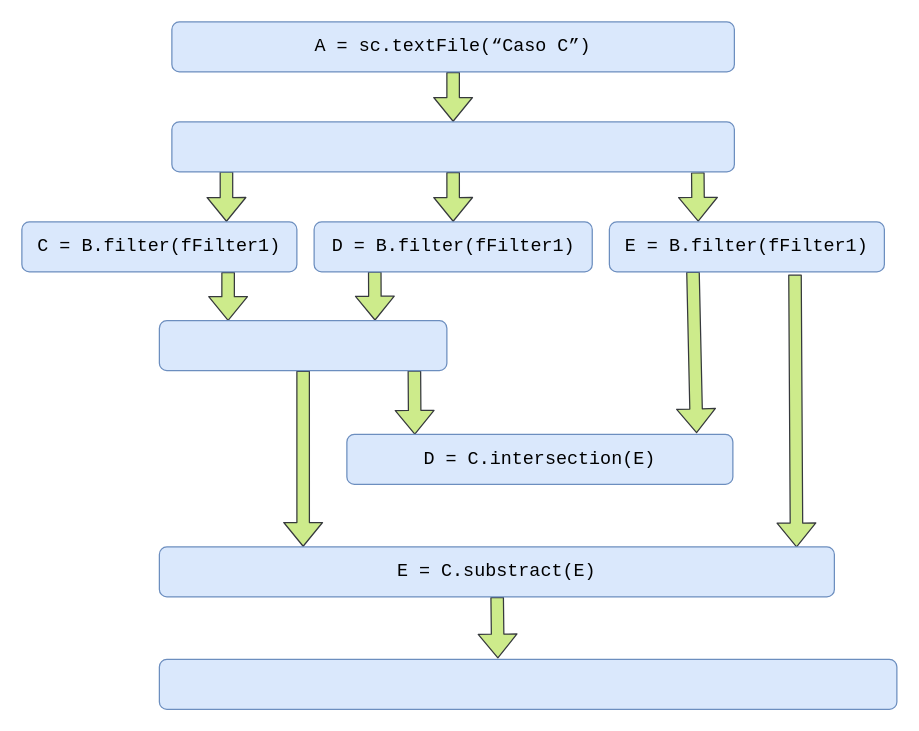
Image size: 919x731. Some labels were removed from this diagram. Here are the shapes that lost their labels. From the top down, the centre of each, then its label:
At point 452,146: "B = A.map(fMap1)".
At point 302,345: "C = C.union(D)".
At point 527,683: "final = E.reduce(fReduce1)".
